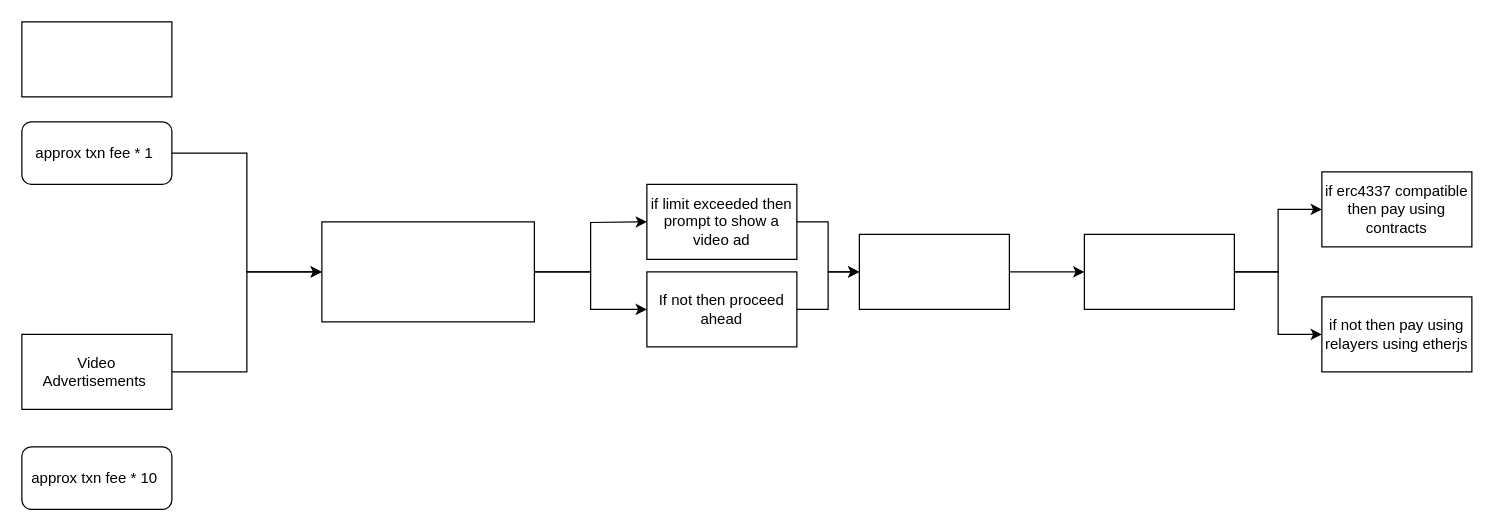
The diagram is 1494 pixels wide and 531 high, and some of its shapes have lost their labels. The centre of each missing label's shape, as x and y in pixels:
contract that keeps track of ads displayed on the page n number of ad viewed: the point at 427,271
Core logic to check number of times for a particular ad: the point at 933,271
Static Advertisments: the point at 96,59
then paymaster contract to check: the point at 1158,271
